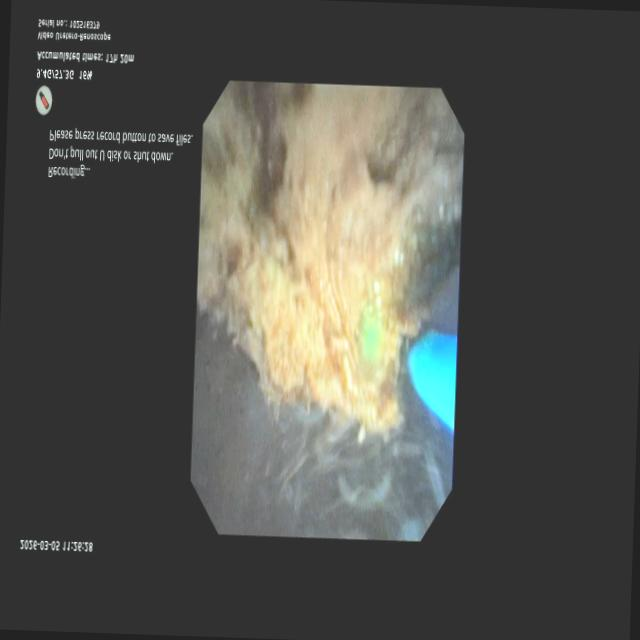laser_dot: (360, 313, 381, 360)
stone-new: (197, 86, 463, 433)
